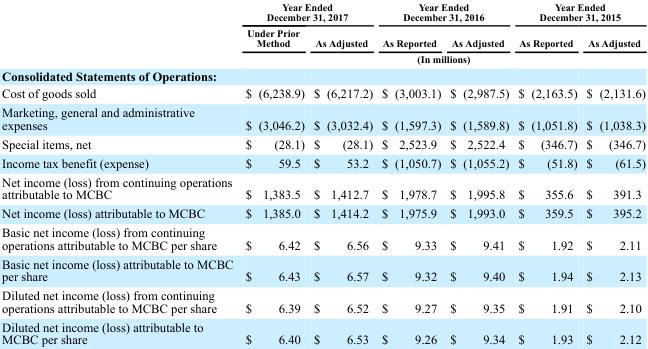table: (1, 0, 644, 346)
table column: (1, 0, 238, 346), (238, 0, 308, 346), (444, 0, 513, 346), (308, 0, 376, 346), (376, 0, 444, 346), (513, 0, 581, 346), (581, 0, 644, 346)
table column header: (1, 0, 644, 66)
table projected row header: (1, 66, 644, 84)
table row: (1, 102, 644, 134), (1, 171, 644, 203), (1, 253, 644, 285), (1, 285, 644, 317), (1, 222, 644, 253), (1, 317, 644, 346), (1, 24, 644, 50), (1, 0, 644, 24), (1, 152, 644, 171), (1, 203, 644, 222), (1, 66, 644, 84), (1, 84, 644, 102), (1, 134, 644, 152), (1, 50, 644, 66)
table spanning cell: (238, 50, 644, 66), (238, 0, 376, 24), (376, 0, 513, 24), (513, 0, 644, 24)
